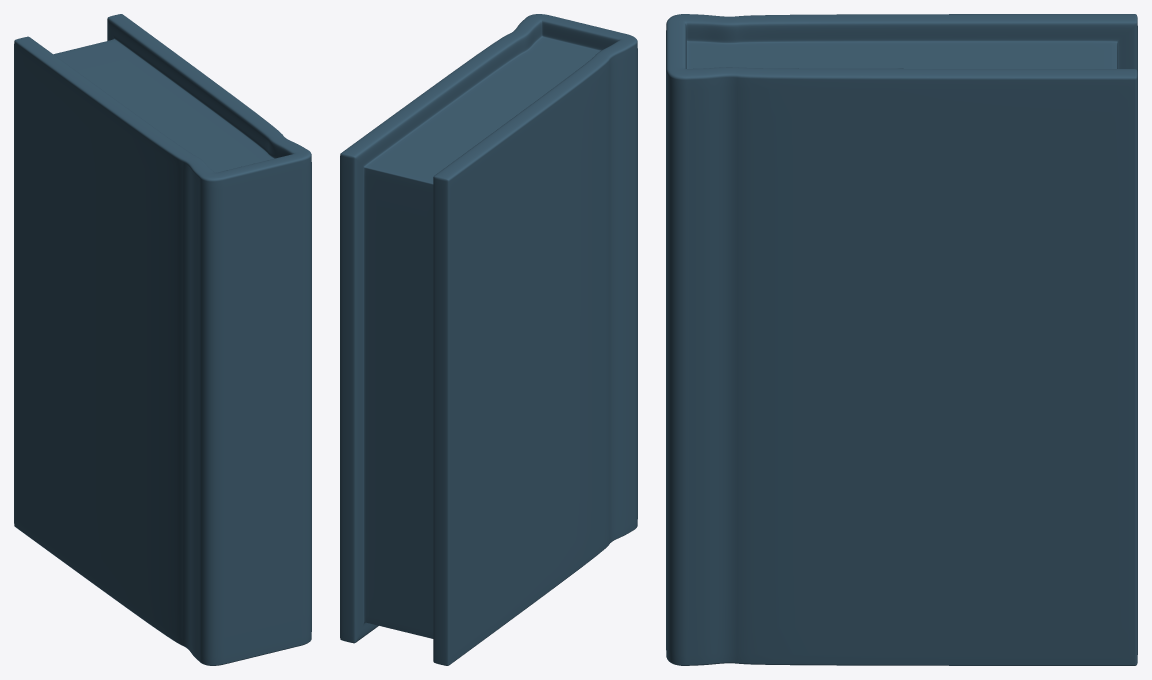
The model's file is bookBlue.fbx.
The picture shows the model from 3 angles, left to right: view 1: azimuth 30°, elevation 25°; view 2: azimuth 150°, elevation 25°; view 3: azimuth 270°, elevation 25°; orthographic projection. The views are drawn at different scales.
Visible parts, largest first — view 1: blue; view 2: blue; view 3: blue.
Part boxes in pixels (x1,y1,x2,y2): blue: [14, 14, 311, 665]; blue: [340, 14, 637, 665]; blue: [666, 14, 1137, 665].
Bounding box in the file's own units: 7.22 × 30.78 × 22.29.
